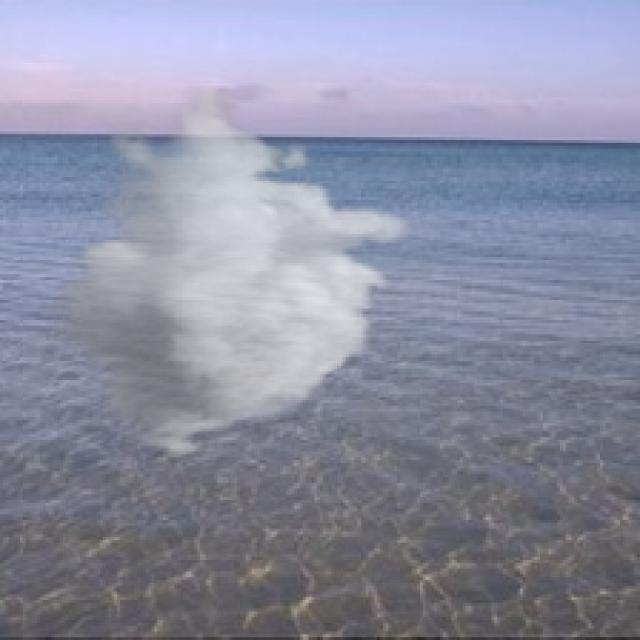smoke: (37, 86, 417, 463)
